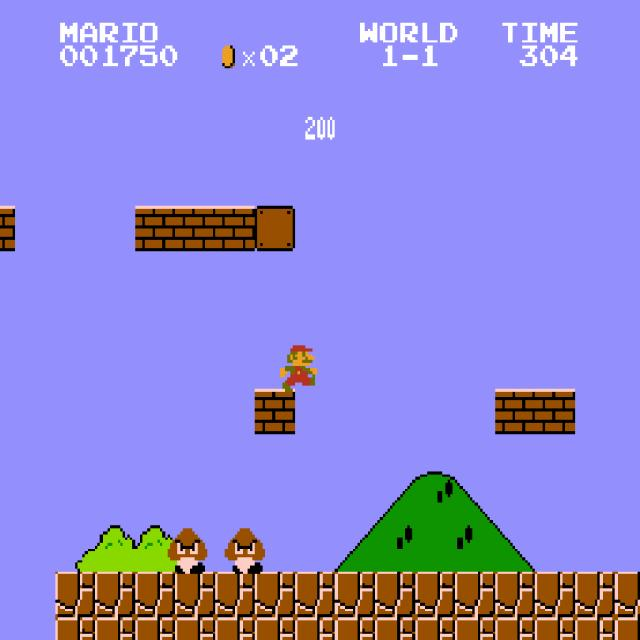brick_block: (135, 206, 175, 251), (175, 206, 215, 251), (215, 206, 255, 251), (255, 389, 295, 434), (495, 389, 535, 434), (535, 389, 575, 434), (0, 206, 15, 251)
empty_block: (255, 206, 295, 251)
goomba: (165, 526, 208, 574), (222, 526, 265, 574)
little_mario: (277, 343, 320, 391)
undestructible_block: (55, 572, 95, 617), (95, 572, 135, 617), (135, 572, 175, 617), (175, 572, 215, 617), (215, 572, 255, 617), (255, 572, 295, 617), (295, 572, 335, 617), (335, 572, 375, 617), (375, 572, 415, 617), (415, 572, 455, 617), (455, 572, 495, 617), (495, 572, 535, 617), (535, 572, 575, 617), (575, 572, 615, 617), (614, 571, 640, 617), (55, 617, 95, 640), (95, 617, 135, 640), (135, 617, 175, 640), (175, 617, 215, 640), (215, 617, 255, 640), (255, 617, 295, 640), (295, 617, 335, 640), (335, 617, 375, 640), (375, 617, 415, 640), (415, 617, 455, 640), (455, 617, 495, 640), (495, 617, 535, 640), (535, 617, 575, 640), (575, 617, 615, 640), (614, 617, 640, 639)
